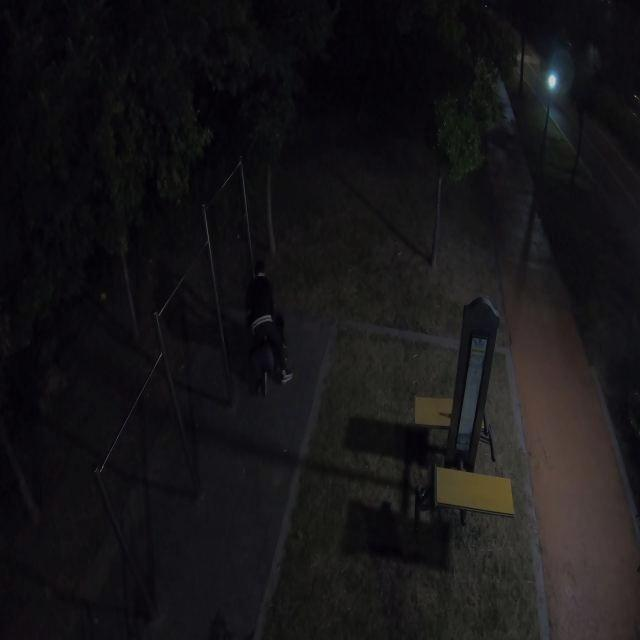fight: (241, 263, 294, 392)
